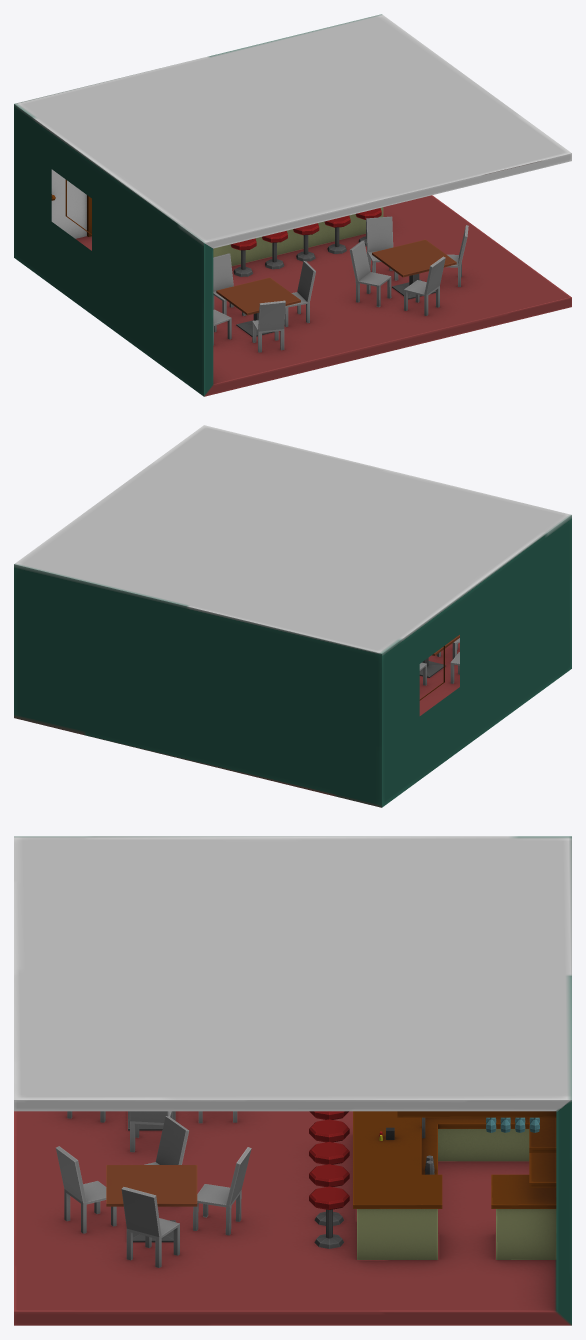
The model's file is bar_with_window.glb.
3 renders of one model, top to bottom at view 1: azimuth 30°, elevation 25°; view 2: azimuth 150°, elevation 25°; view 3: azimuth 270°, elevation 25°, orthographic. The views are drawn at different scales.
Visible parts, largest first — view 1: Bar_mesh; view 2: Bar_mesh; view 3: Bar_mesh.
Boxes of the visible parts, x1=… form: Bar_mesh: x1=14, y1=14, x2=571, y2=396; Bar_mesh: x1=14, y1=425, x2=571, y2=807; Bar_mesh: x1=14, y1=836, x2=571, y2=1325.
Size of the model in its own units: 21.19 by 8.47 by 18.97.
Materials: 2 (2 with a texture image).
